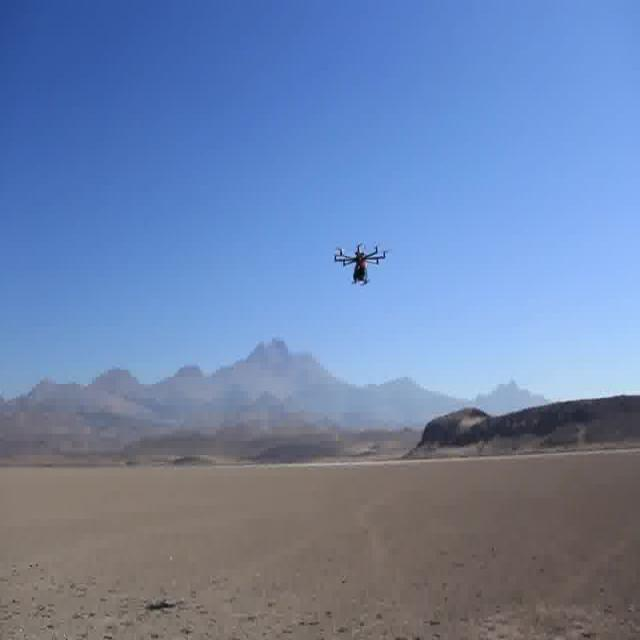Drone_FW: (333, 241, 391, 284)
